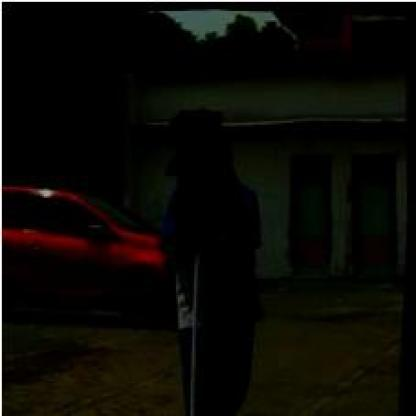yellow: (164, 108, 228, 237)
